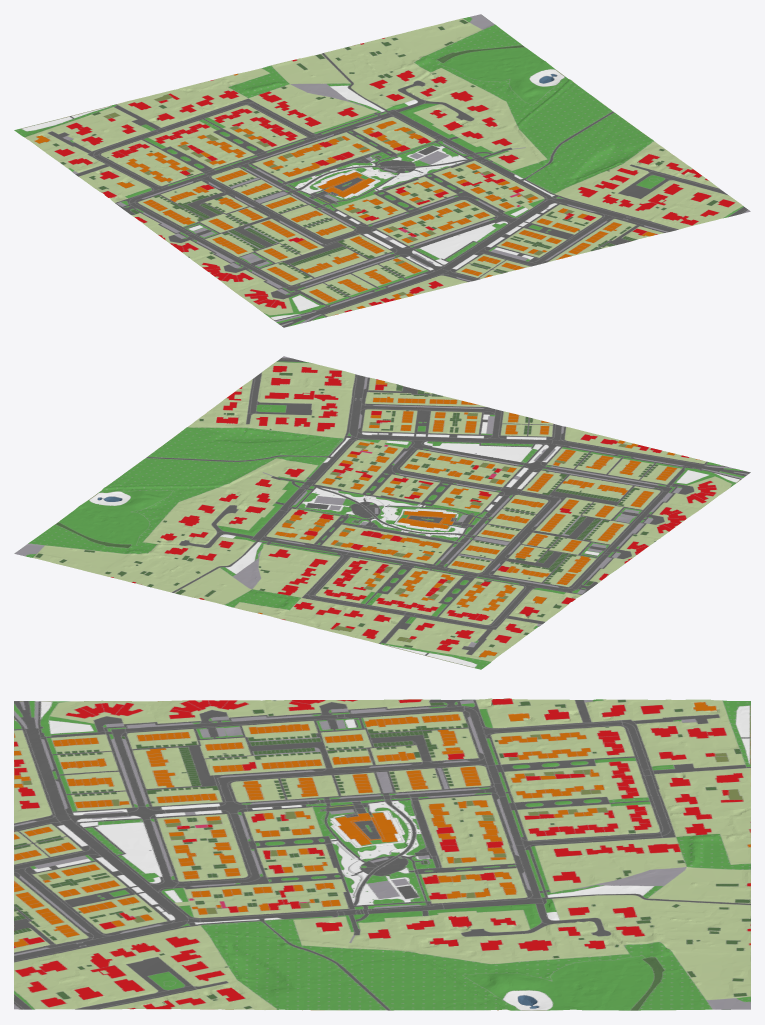
Rendered from Terrain_Scenario2.fbx.
3 views of the same model, one above another, from view 1: azimuth 30°, elevation 25°; view 2: azimuth 150°, elevation 25°; view 3: azimuth 270°, elevation 25° (orthographic). The views are drawn at different scales.
Size of the model in its own units: 49950 by 49950 by 442.
1 material, 1 textured.
